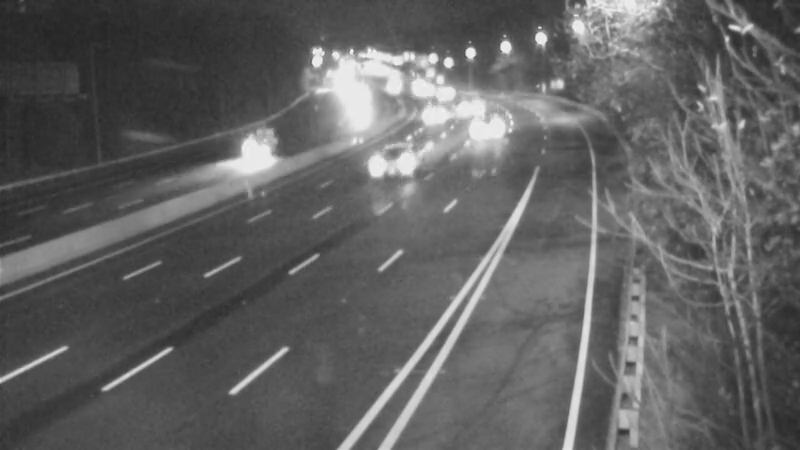vehicle: (350, 132, 430, 212), (214, 112, 294, 192), (444, 79, 494, 129), (414, 81, 464, 131), (460, 104, 510, 154)
